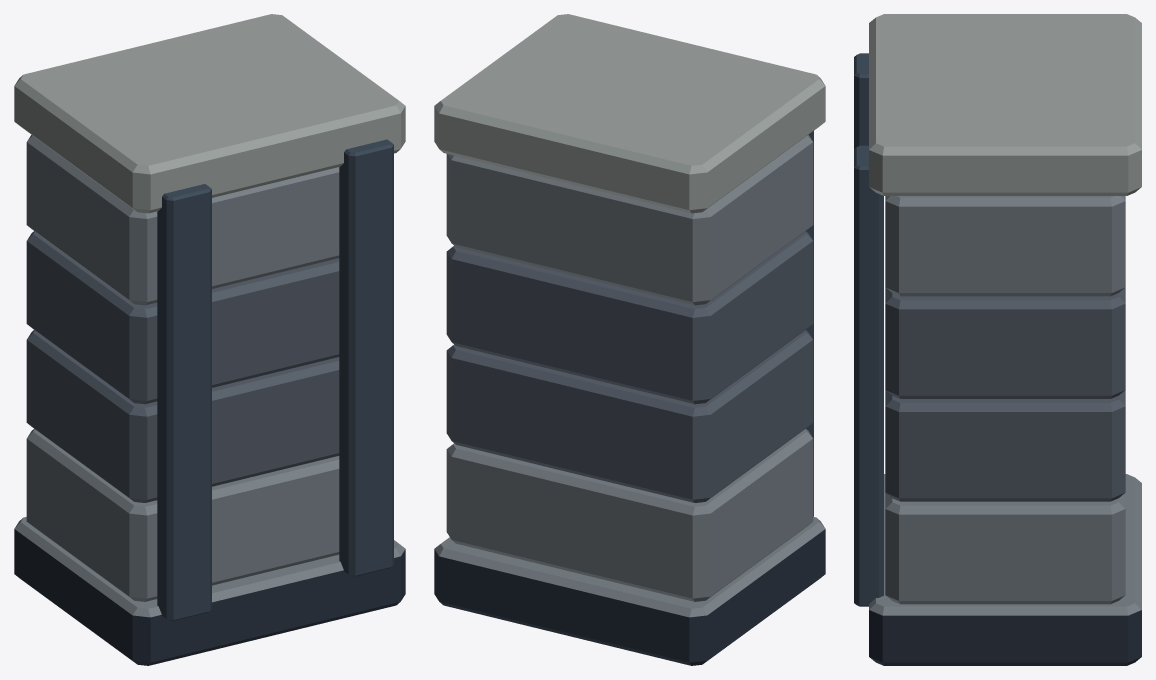
Rendered from wall-end.glb.
3 views of the same model, side by side, from view 1: azimuth 30°, elevation 25°; view 2: azimuth 150°, elevation 25°; view 3: azimuth 270°, elevation 25° (orthographic). The views are drawn at different scales.
Parts seen in each view (by area): view 1: wall-end__body; view 2: wall-end__body; view 3: wall-end__body.
Part boxes in pixels (x1=…): wall-end__body: x1=14, y1=14, x2=405, y2=665; wall-end__body: x1=434, y1=14, x2=825, y2=665; wall-end__body: x1=854, y1=14, x2=1141, y2=665.
Size of the model in its own units: 0.6 by 1.05 by 0.5275.
